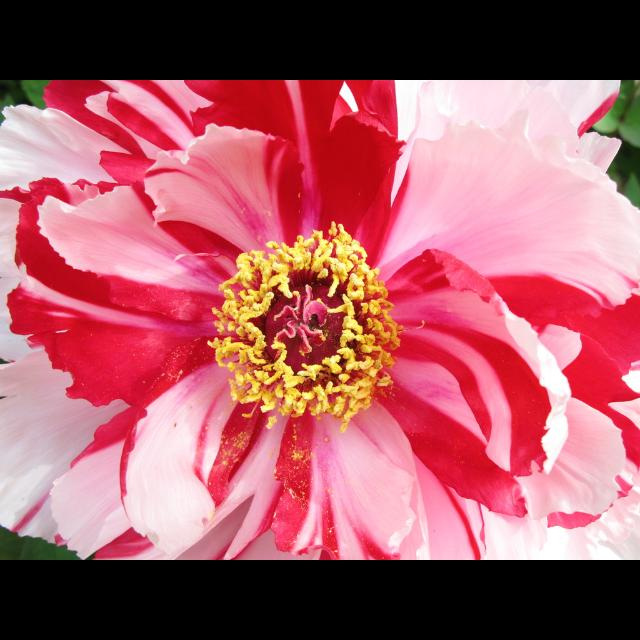Flower: (9, 134, 609, 550)
